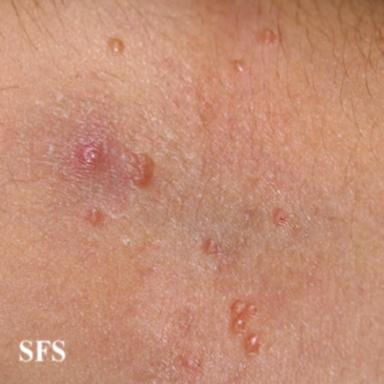Molluscum-Contagiosum: (230, 300, 259, 353), (121, 150, 155, 187), (107, 38, 125, 54), (262, 29, 273, 44), (234, 60, 246, 72), (89, 208, 97, 224)
